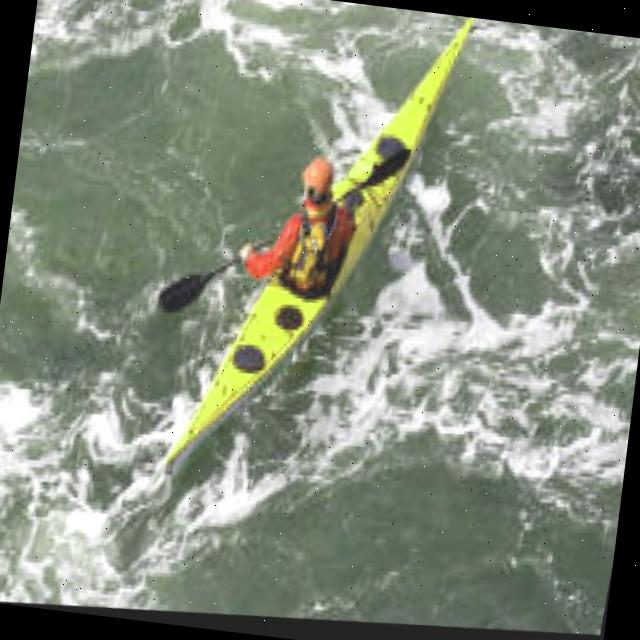kayak: (169, 17, 477, 473)
